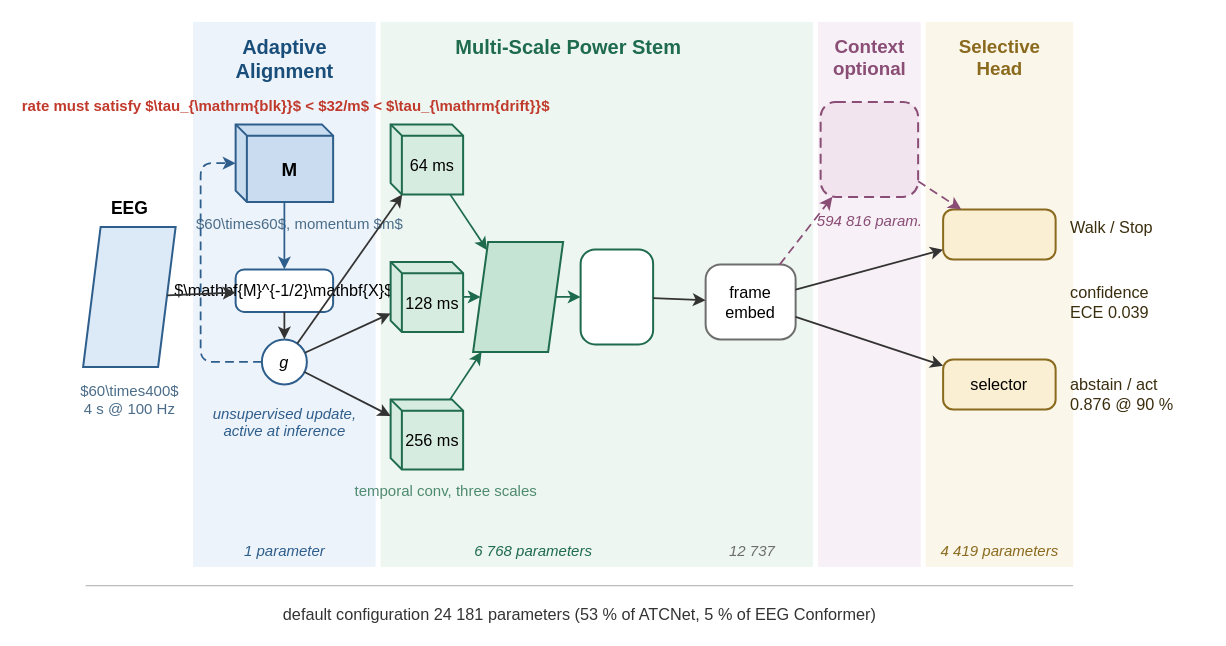
Image size: 1226x646. Some labels were removed from this diagram. Here are the shapes that lost their labels. From the top down, the centre of each, then its label:
the point at 869,148: causal transformer K = 8
the point at 999,234: classifier
the point at 518,296: depthwise spatial
the point at 616,296: square pool log
